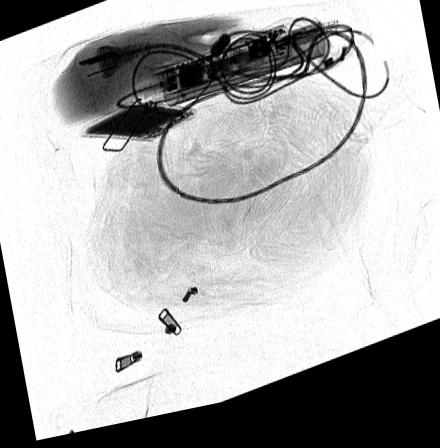Powerbank: (82, 104, 197, 147)
